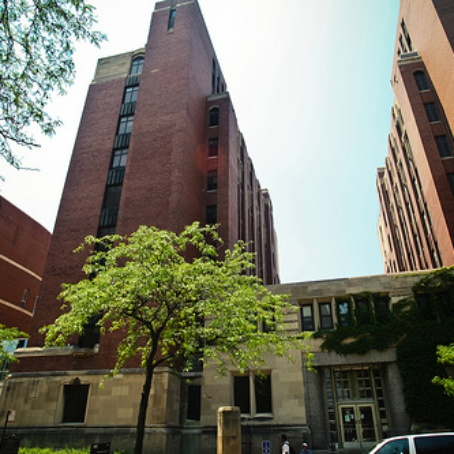building: (1, 276, 443, 454), (49, 18, 271, 342), (373, 1, 454, 269)
sky: (252, 1, 379, 267)
tree: (50, 232, 295, 454)
